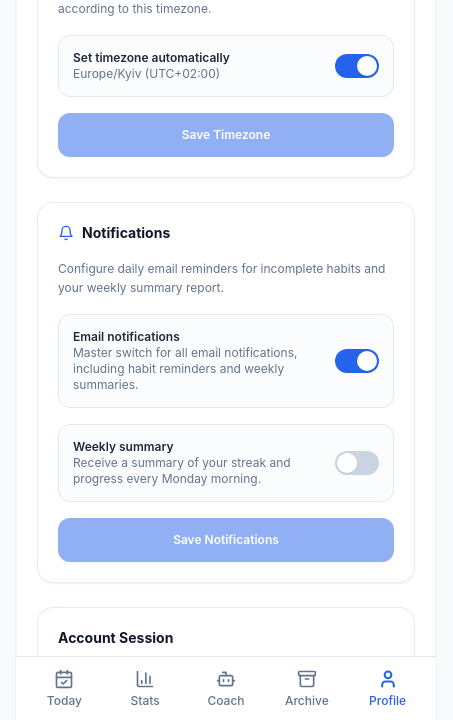
Test: ProfilePage Notifications Section › updates master switch "Email notifications" and saves via PATCH /auth/profile/
(page scrolled)
Click the 2nd switch named "email notifications" at (357, 360), box x1=335 y1=348 x2=379 y2=372
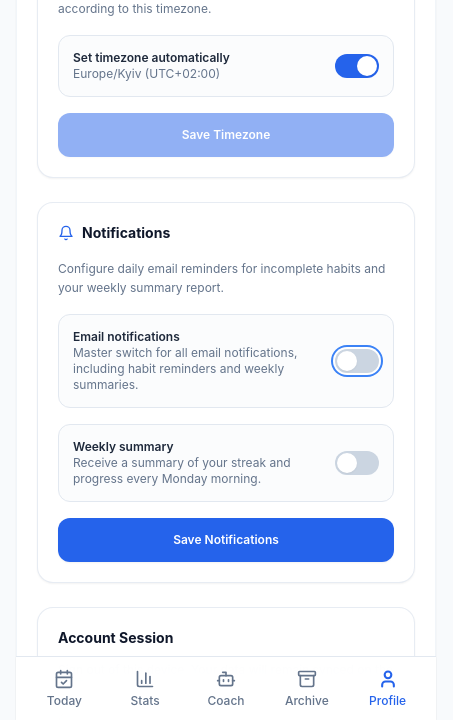
Expected: the 2nd switch named "email notifications" is not checked, x1=335 y1=348 x2=379 y2=372
Expected: the button "Save Notifications" is enabled
Click the button "Save Notifications" at (226, 540), box x1=58 y1=518 x2=394 y2=562
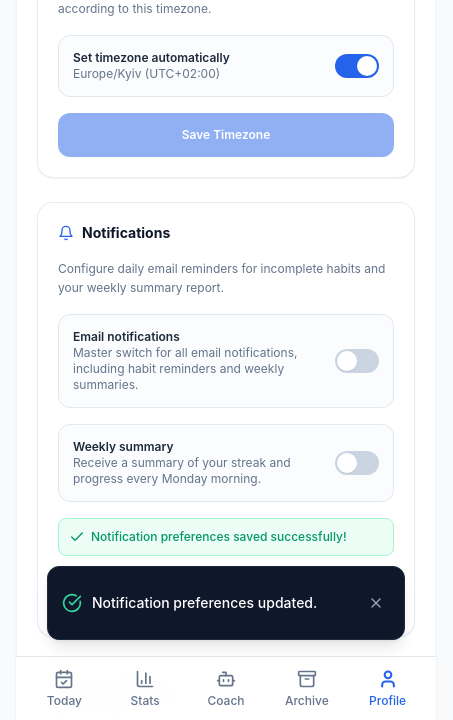
Expected: the text "Notification preferences saved successfully!" is shown, x1=91 y1=528 x2=346 y2=544
